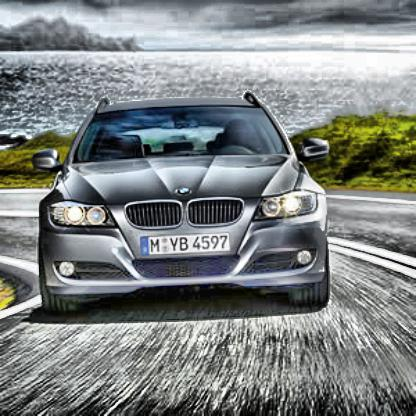BMW 3 Series Wagon 2012: (40, 94, 333, 324)
